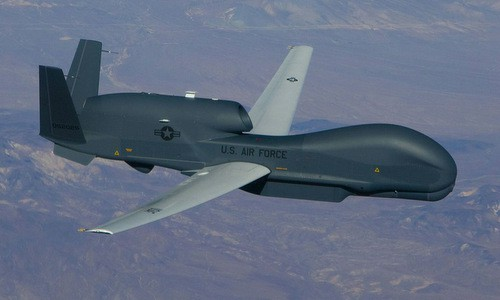maybay_khongnguoilai: (29, 37, 462, 241)
